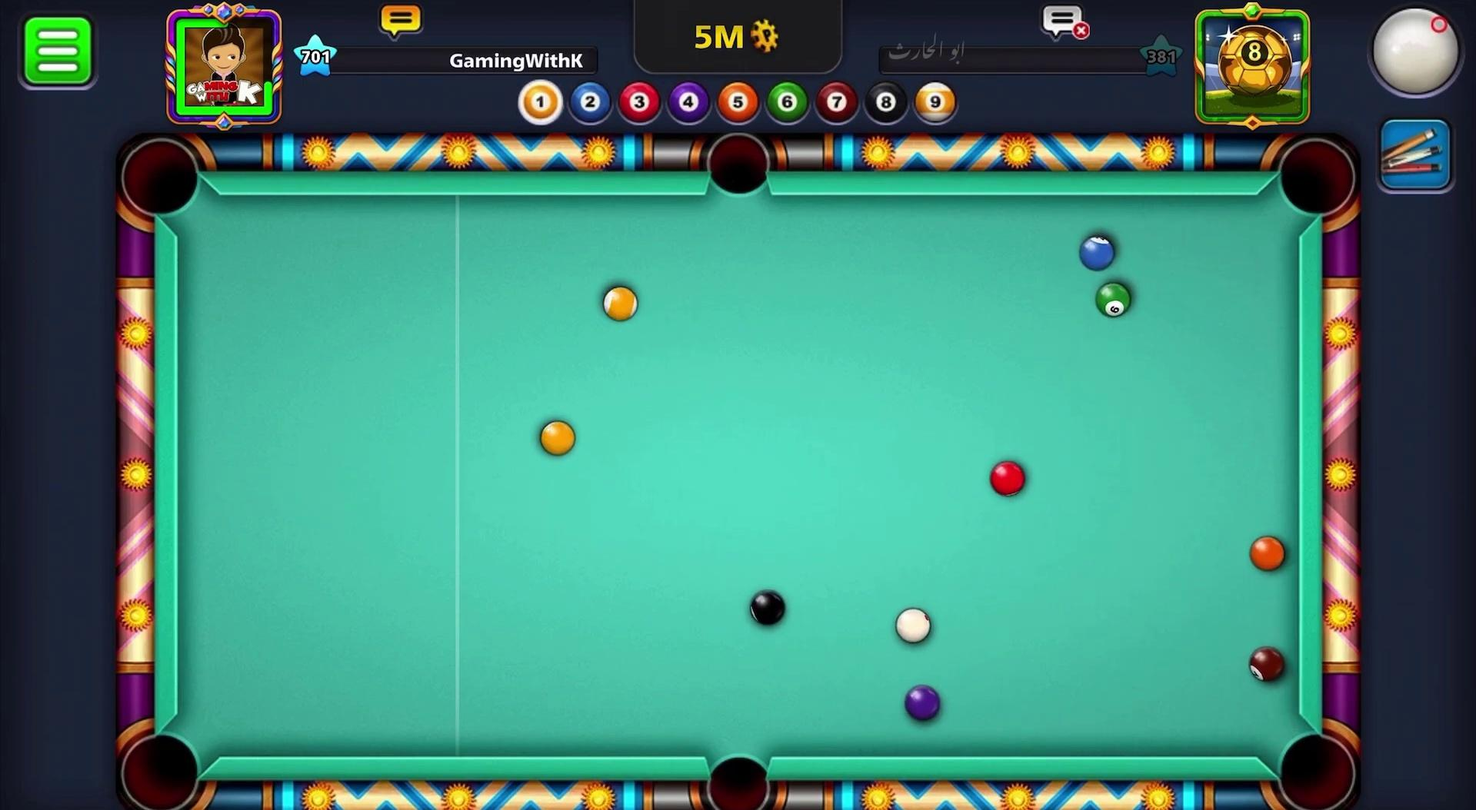Ball: (738, 583, 794, 632), (595, 278, 644, 331), (531, 410, 582, 460), (983, 455, 1034, 503), (1075, 229, 1122, 275), (1093, 277, 1135, 328), (1246, 529, 1290, 575), (1247, 639, 1288, 684), (902, 685, 945, 722)
Hole: (1267, 129, 1366, 233), (111, 131, 208, 228), (1265, 713, 1362, 809), (111, 720, 211, 809), (682, 742, 788, 809), (698, 123, 781, 207)
Play_Area: (177, 194, 1308, 762)
Spin: (1341, 0, 1474, 117)
White: (891, 604, 935, 643)
